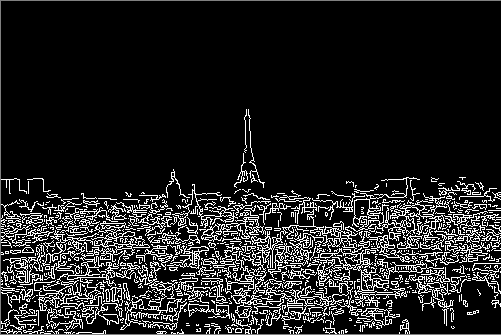eiffel tower: (212, 92, 273, 194)
